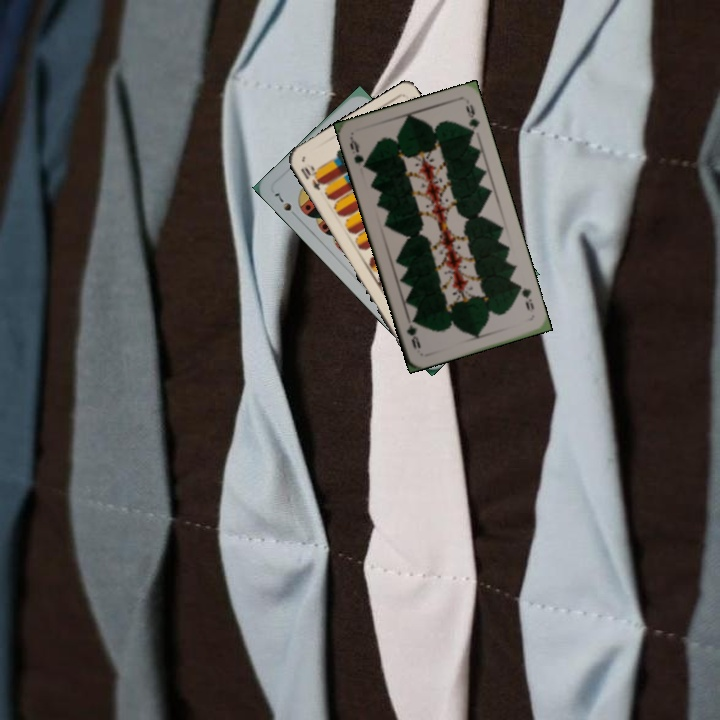E10: (297, 161, 327, 193)
G9: (346, 134, 371, 172), (513, 280, 537, 313)
S7: (270, 189, 301, 221)
